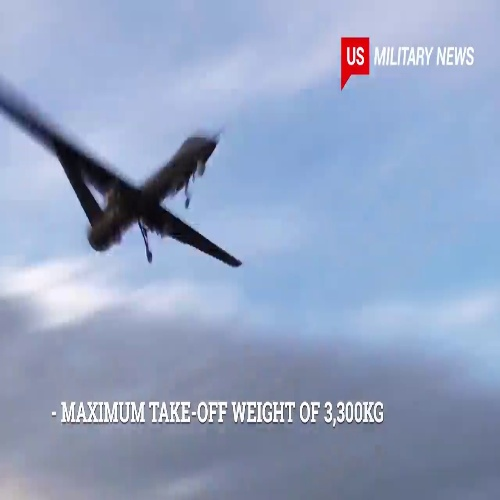uav: (1, 75, 243, 270)
